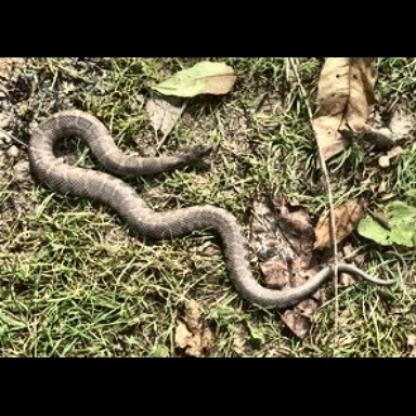Snake: (2, 74, 416, 334)
